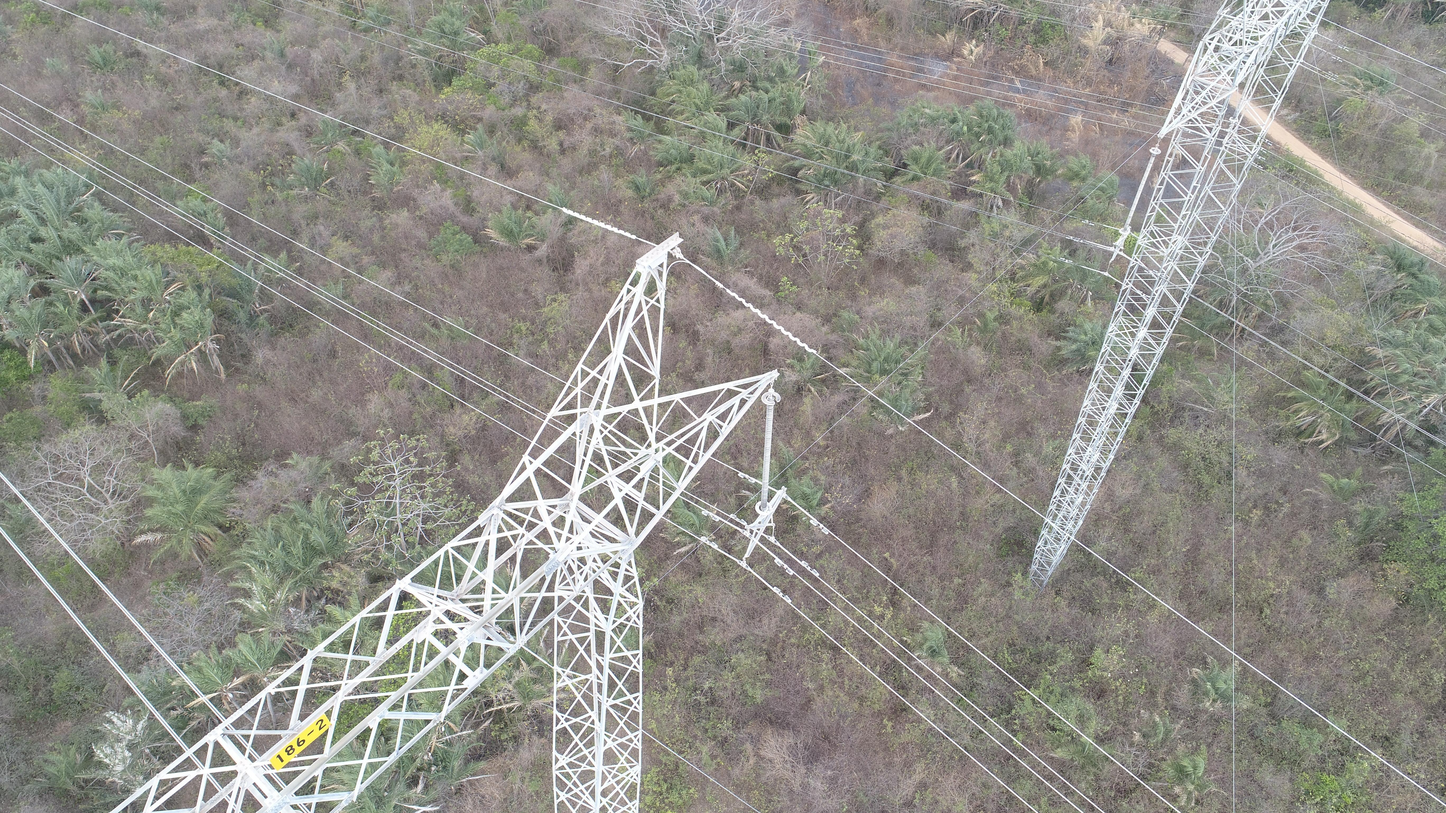power_tower: (0, 229, 789, 813), (1026, 1, 1333, 591)
